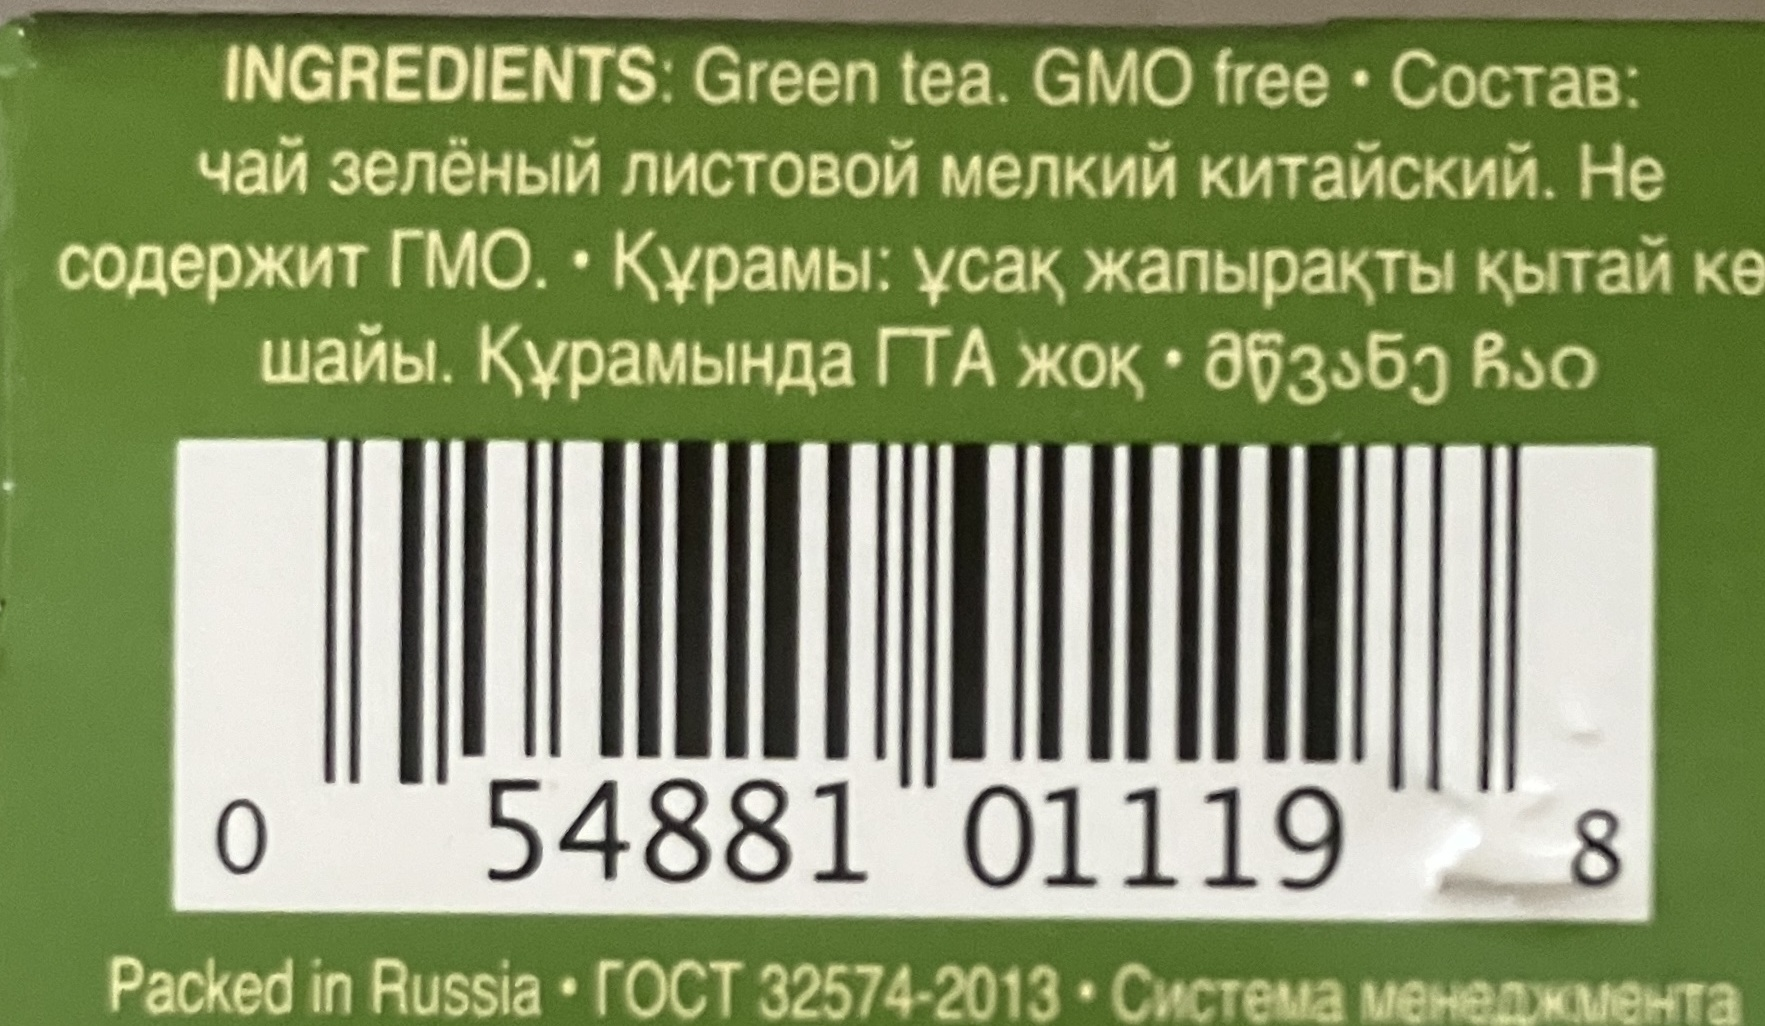1d: (327, 437, 1522, 791)
